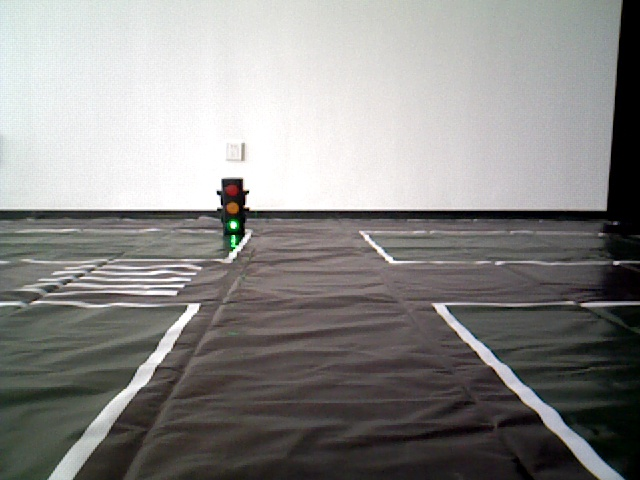green: (219, 182, 244, 235)
